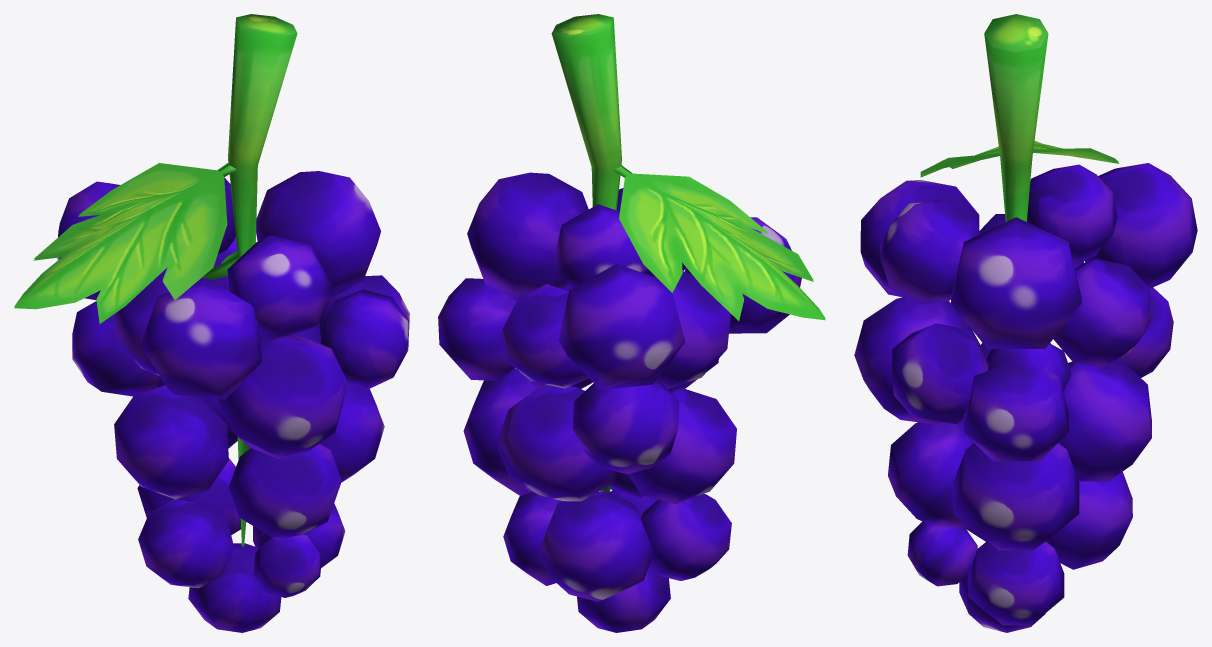
Rendered from grape.fbx.
3 renders of one model, left to right at view 1: azimuth 30°, elevation 25°; view 2: azimuth 150°, elevation 25°; view 3: azimuth 270°, elevation 25°, orthographic. The views are drawn at different scales.
Visible parts, largest first — view 1: grape; view 2: grape; view 3: grape.
Boxes of the visible parts, x1=… form: grape: x1=14, y1=14, x2=409, y2=632; grape: x1=438, y1=14, x2=825, y2=632; grape: x1=854, y1=14, x2=1197, y2=632.
Size of the model in its own units: 2.31 by 3.46 by 1.75.
